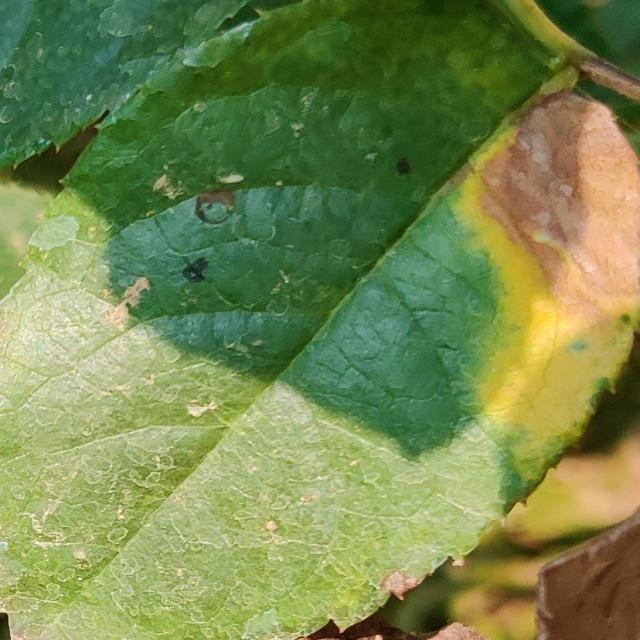Black_spot: (178, 253, 212, 286)
Rose: (0, 0, 638, 638)
